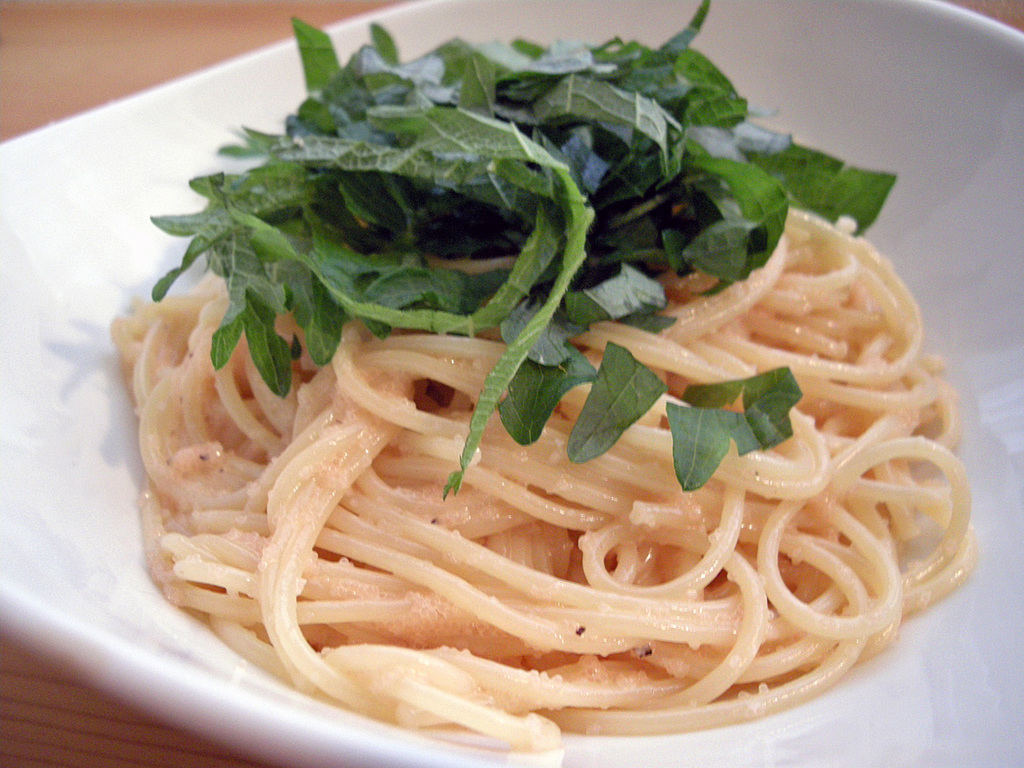pasta: (108, 0, 978, 751)
